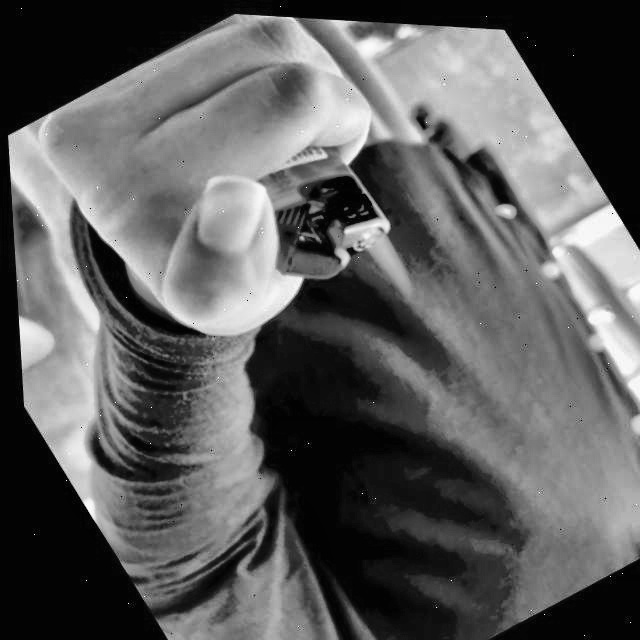Fire: (351, 215, 424, 303)
